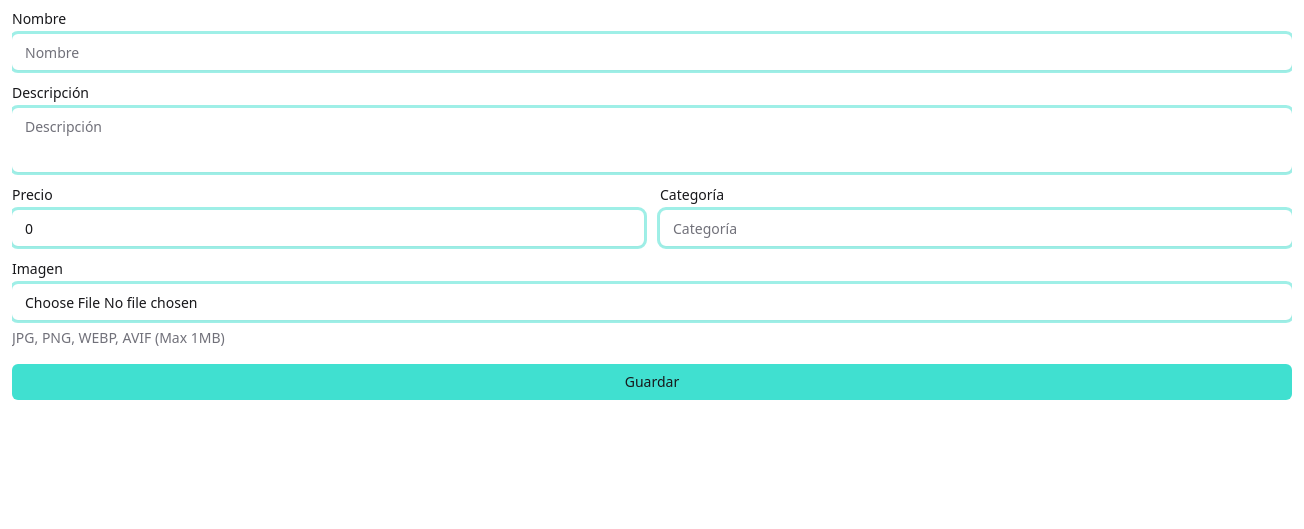
Test case: ProductForm › should validate required fields on submit (empty form)
Click the button "Guardar". click: point(652, 382)
box: [12,364,1292,400]
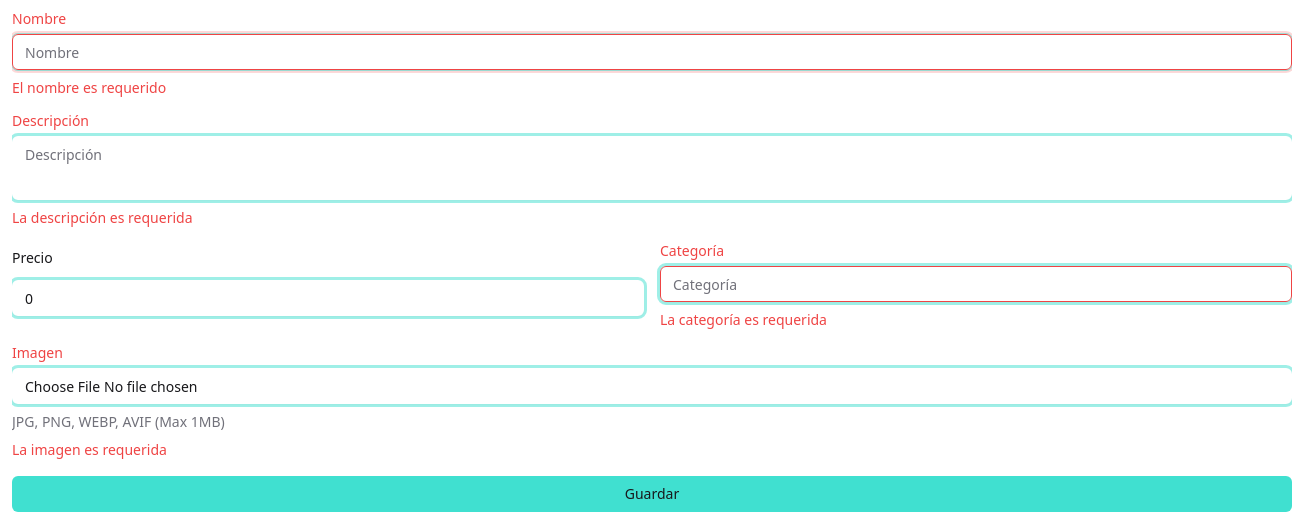
Result: the text "El nombre es requerido" is shown at [12,78,166,97]
Result: the text "La descripción es requerida" is shown at [12,208,192,227]
Result: the text "La categoría es requerida" is shown at [660,310,827,329]
